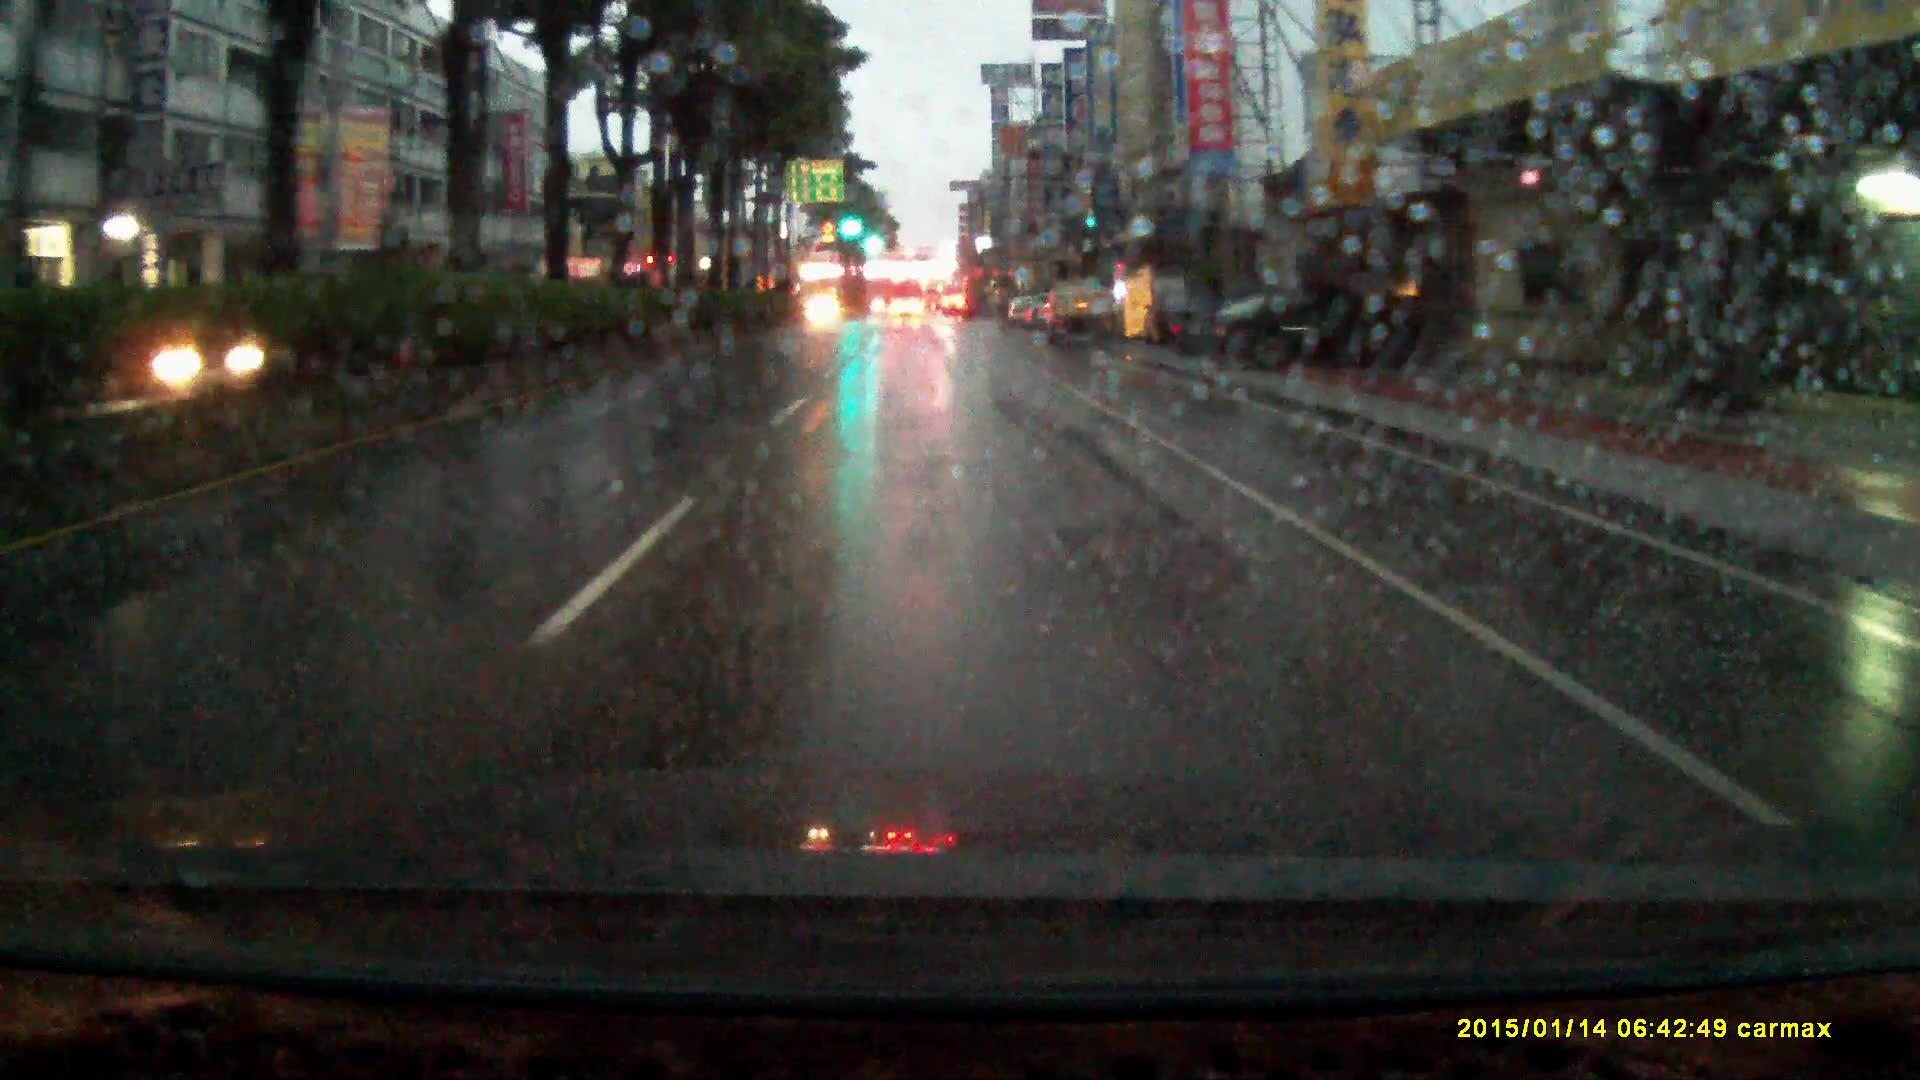vehicle: (1172, 290, 1449, 371), (1141, 291, 1215, 355), (1048, 277, 1113, 343), (804, 299, 844, 334), (889, 298, 927, 324), (922, 280, 945, 314)
